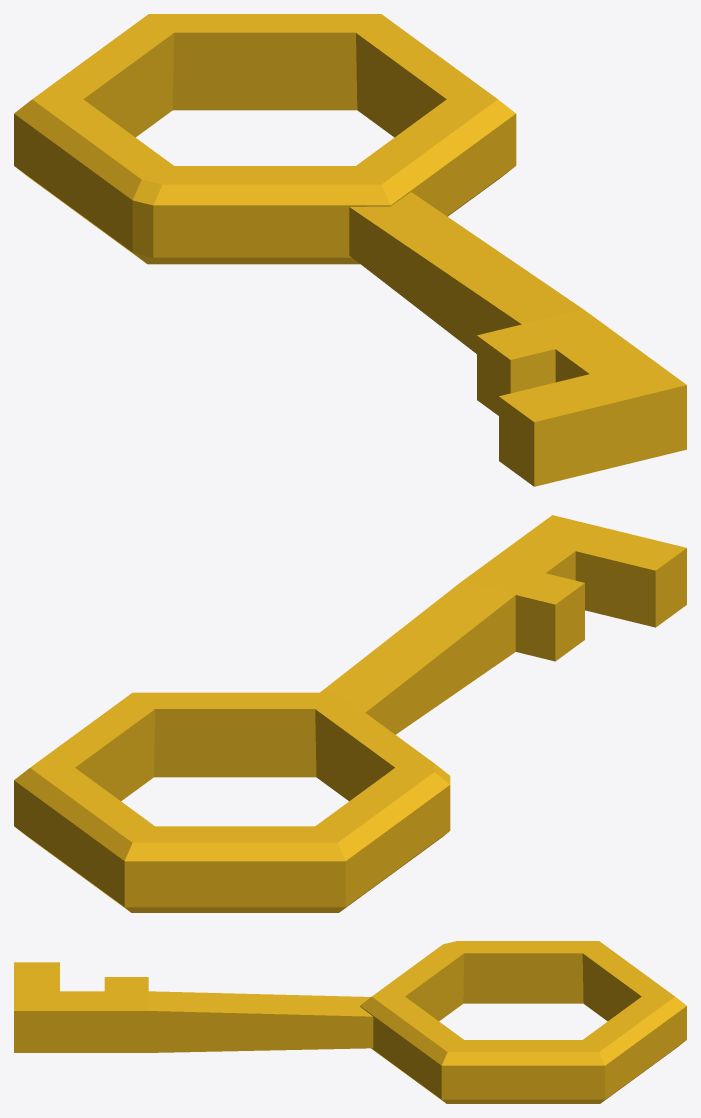
The model's file is key.fbx.
The picture shows the model from 3 angles, top to bottom: view 1: azimuth 30°, elevation 25°; view 2: azimuth 150°, elevation 25°; view 3: azimuth 270°, elevation 25°; orthographic projection. The views are drawn at different scales.
Visible parts, largest first — view 1: Cylinder; view 2: Cylinder; view 3: Cylinder.
Boxes of the visible parts, box(x1,y1,x2,y2) form: Cylinder: box(14, 14, 686, 486); Cylinder: box(14, 515, 686, 912); Cylinder: box(14, 941, 686, 1103).
Size of the model in its own units: 32.3 by 6.44 by 76.73.
